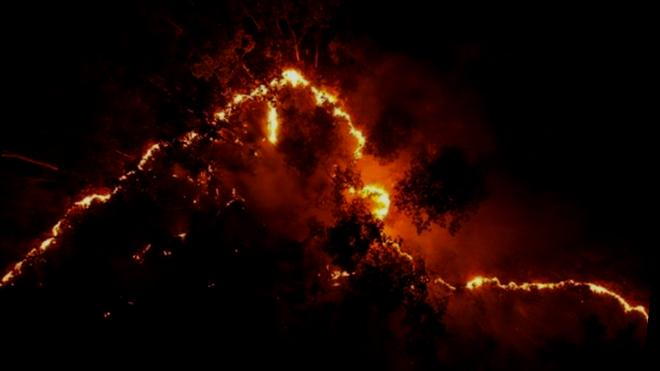fire: (430, 262, 648, 318), (40, 182, 108, 254), (307, 89, 370, 162), (203, 80, 263, 133), (344, 180, 394, 222), (130, 141, 160, 185), (265, 98, 280, 146), (283, 66, 303, 88), (180, 124, 195, 148)
